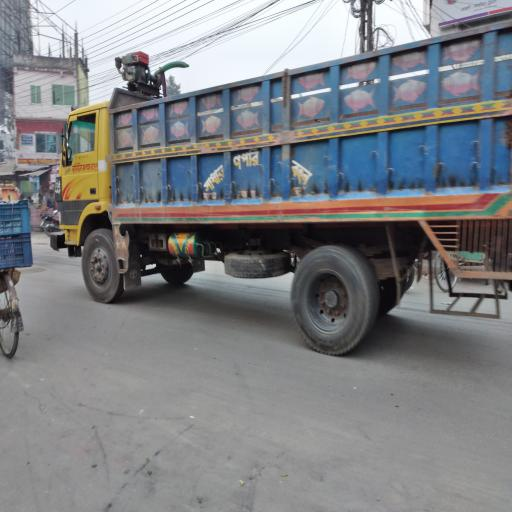bicycle: (1, 264, 24, 359)
motorbike: (40, 210, 64, 242)
truck: (53, 20, 512, 363)
